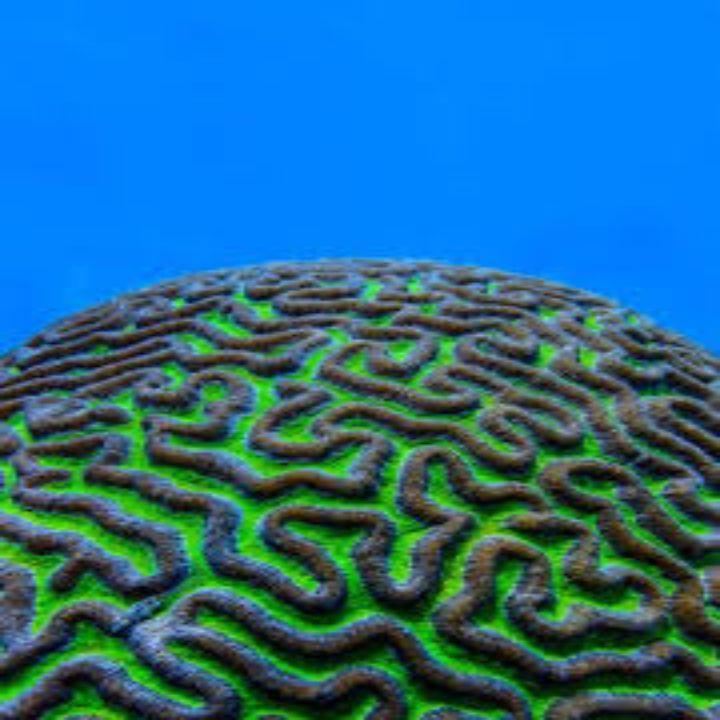Healthy Coral: (12, 247, 705, 713)
